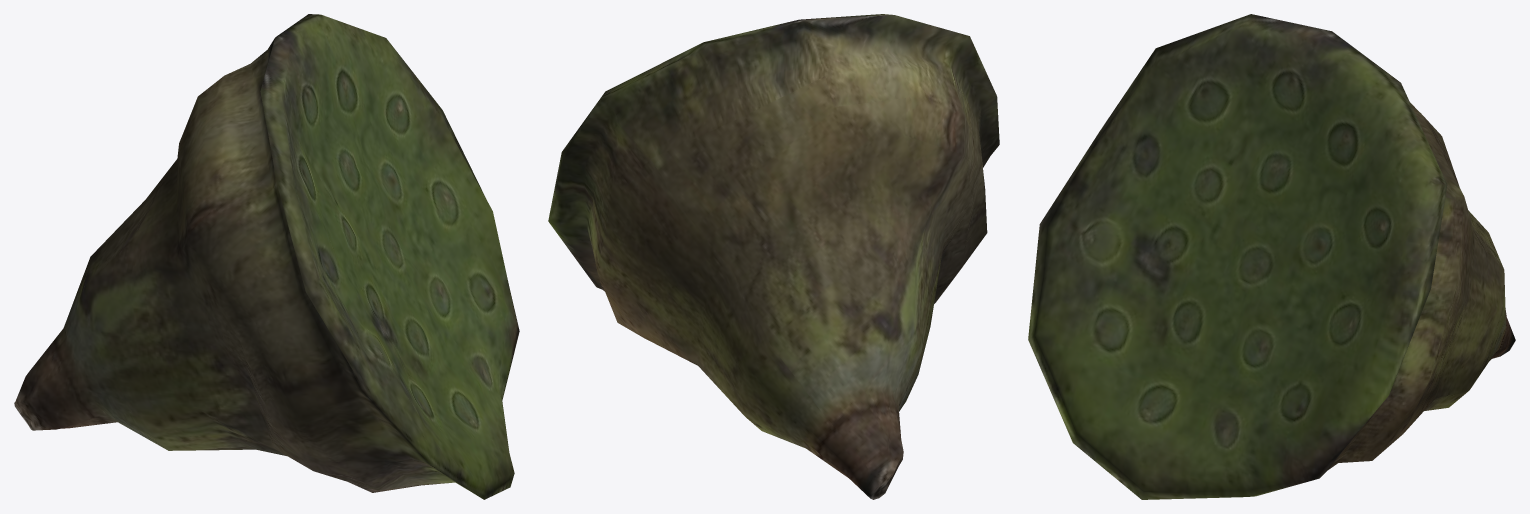
File: A47_Lotus_Seed_Head_low.fbx
The picture shows the model from 3 angles, left to right: view 1: azimuth 30°, elevation 25°; view 2: azimuth 150°, elevation 25°; view 3: azimuth 270°, elevation 25°; orthographic projection. The views are drawn at different scales.
Parts seen in each view (by area): view 1: A47_Lotus_Seed_Head_low; view 2: A47_Lotus_Seed_Head_low; view 3: A47_Lotus_Seed_Head_low.
Boxes of the visible parts, x1,y1,x2,y2 form: A47_Lotus_Seed_Head_low: [14, 14, 519, 499]; A47_Lotus_Seed_Head_low: [548, 14, 999, 499]; A47_Lotus_Seed_Head_low: [1028, 14, 1515, 499].
Size of the model in its own units: 11.01 by 11.27 by 10.47.
1 material, 1 textured.
